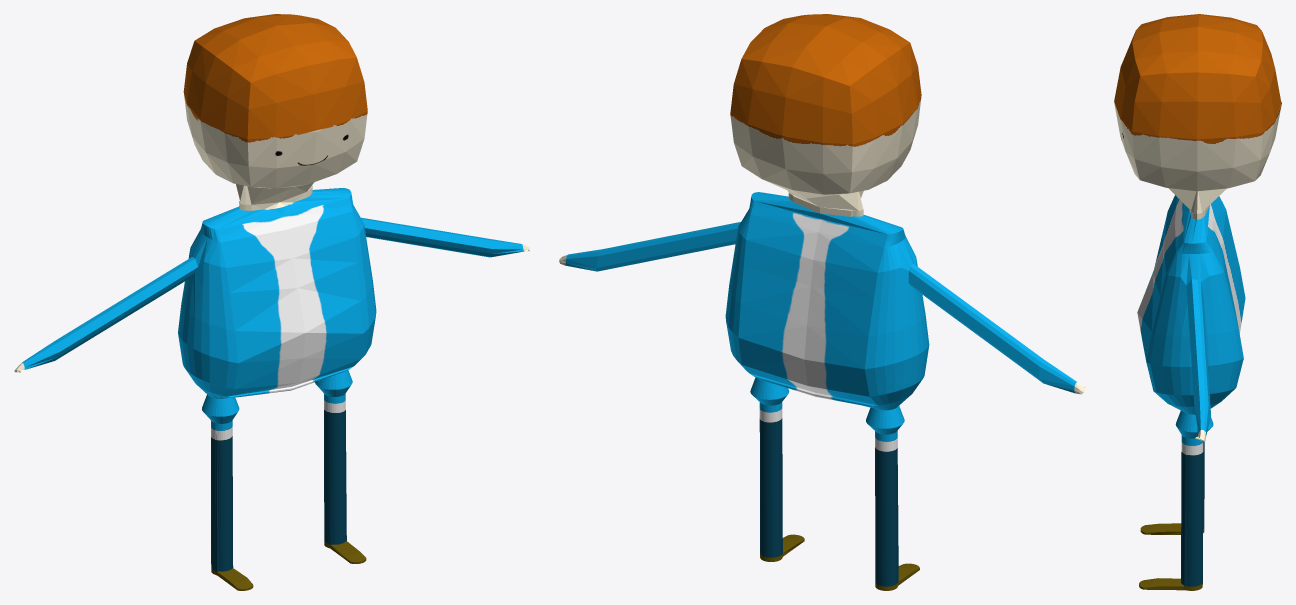
Rendered from player_texture.obj.
3 renders of one model, left to right at view 1: azimuth 30°, elevation 25°; view 2: azimuth 150°, elevation 25°; view 3: azimuth 270°, elevation 25°, orthographic. The views are drawn at different scales.
Visible parts, largest first — view 1: Cylinder_Cylinder.001; view 2: Cylinder_Cylinder.001; view 3: Cylinder_Cylinder.001.
Part boxes in pixels (box(x1,y1,x2,y2)): Cylinder_Cylinder.001: box(14, 14, 530, 590); Cylinder_Cylinder.001: box(559, 14, 1085, 590); Cylinder_Cylinder.001: box(1114, 14, 1281, 590).
Size of the model in its own units: 4.98 by 4.93 by 1.41.
